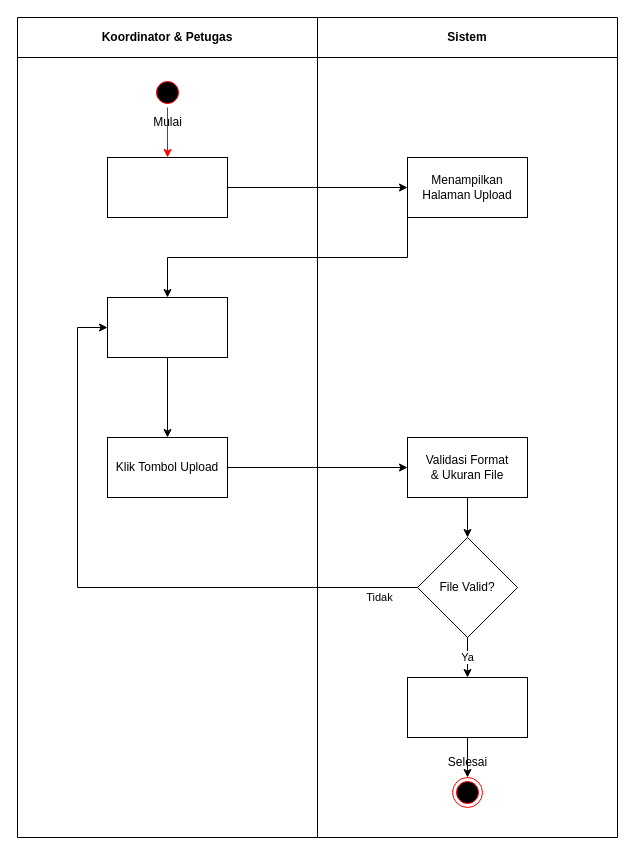
Image size: 635x855. Some labels were removed from this diagram. The shapes that lost their labels are listed below. From the top down, each one's centre as x and y in pixels, then its label:
At (x=167, y=187): "Akses Menu Arsip Scan".
At (x=167, y=327): "Pilih Berkas PDF".
At (x=467, y=707): "Simpan ke Server & Database".
